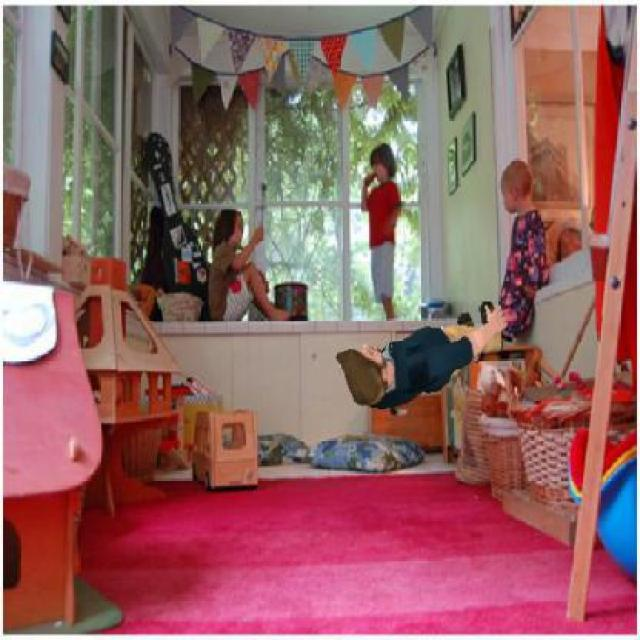Person: (334, 297, 512, 412)
